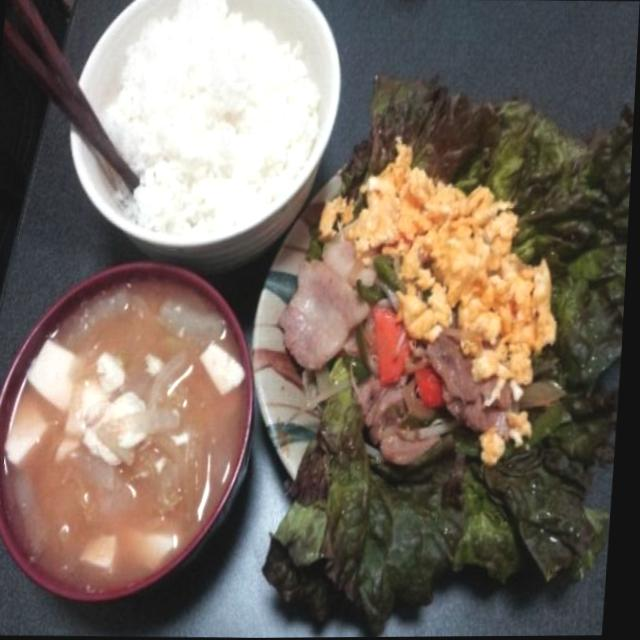汤锅炖物: (0, 264, 271, 603)
猪肉菜式: (259, 259, 541, 467)
米饭主食: (53, 0, 352, 260)
鸡蛋料理: (323, 181, 569, 390)
